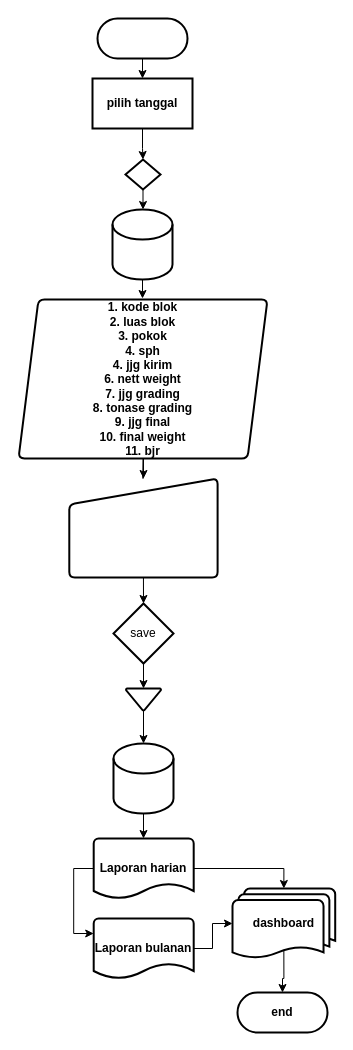
Image size: 353x1050. Some labels were removed from this diagram. The centre of each missing label's shape, as x and y in pixels:
"1. adjust bjr 2. jjg panen 3. jjg afkir 4. rotasi panen" goes at point 143,527.
"cbi arpi" goes at point 143,778.
"start" goes at point 142,38.
"wb p-pro" goes at point 142,244.
